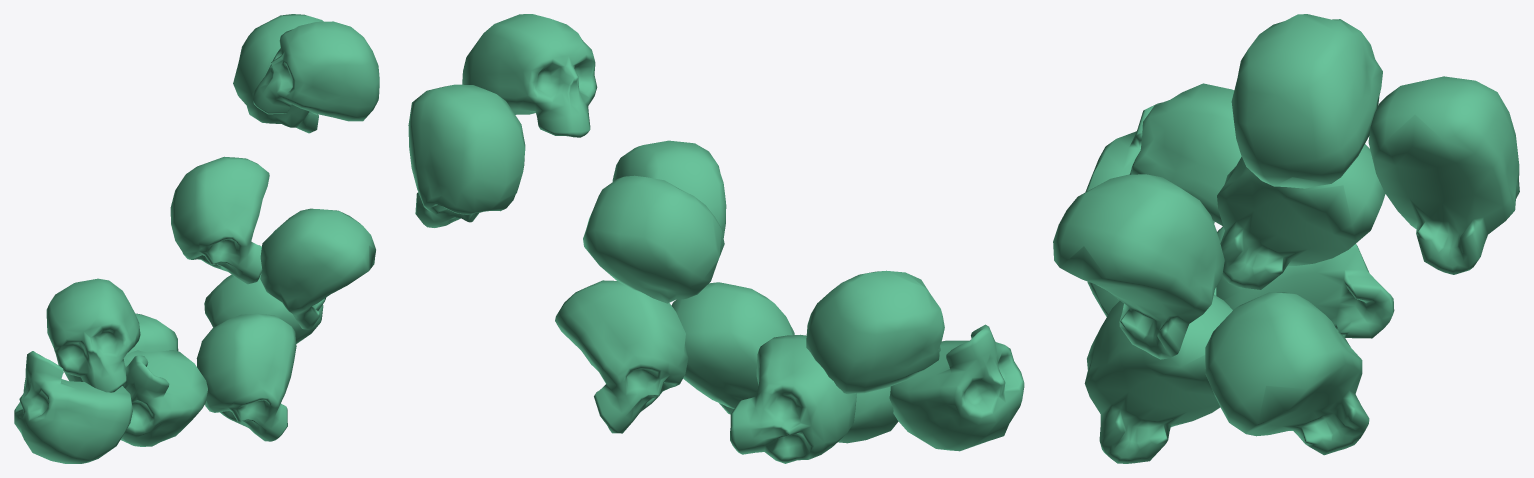
Rendered from Bones_Barrel_03_Lod1.fbx.
3 views of the same model, side by side, from view 1: azimuth 30°, elevation 25°; view 2: azimuth 150°, elevation 25°; view 3: azimuth 270°, elevation 25° (orthographic). The views are drawn at different scales.
Visible parts, largest first — view 1: Bones_Barrel_03_Lod1; view 2: Bones_Barrel_03_Lod1; view 3: Bones_Barrel_03_Lod1.
Part boxes in pixels (x1=…): Bones_Barrel_03_Lod1: x1=14, y1=14, x2=379, y2=463; Bones_Barrel_03_Lod1: x1=408, y1=14, x2=1024, y2=463; Bones_Barrel_03_Lod1: x1=1053, y1=14, x2=1519, y2=463.
Bounding box in the file's own units: 72.24 × 58.39 × 47.06.
